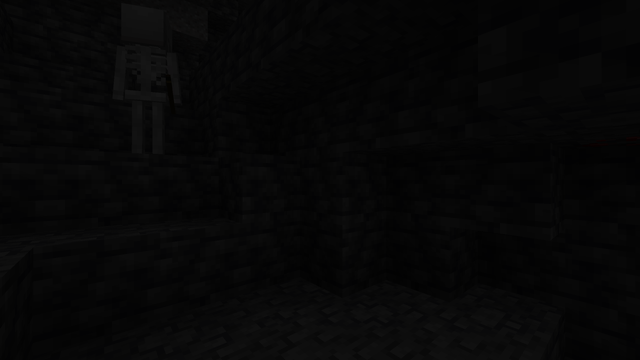squelettes: (121, 3, 175, 156)
